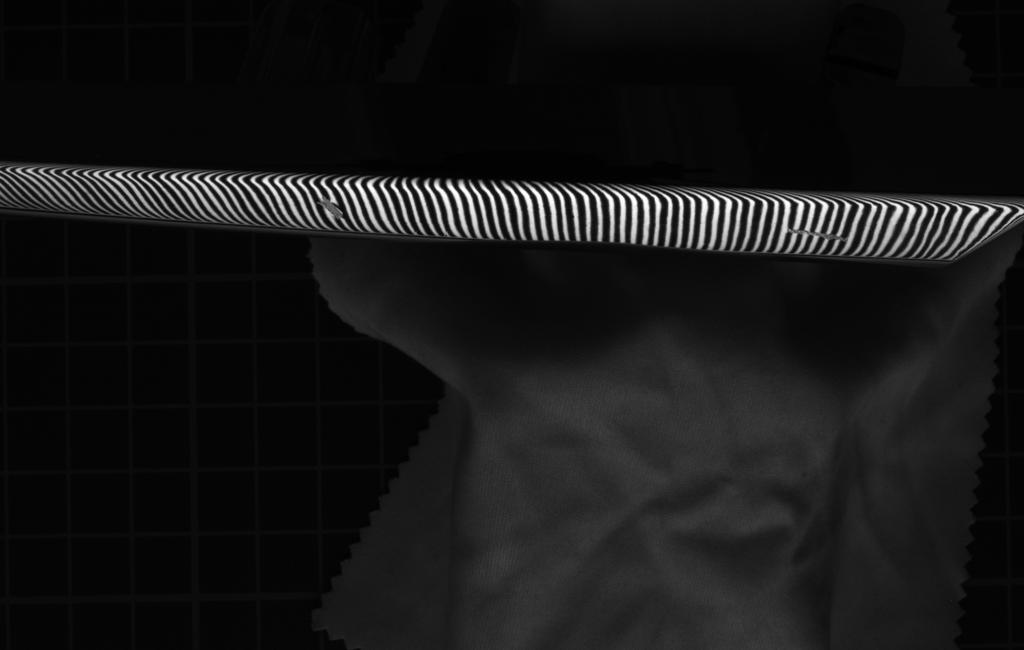Scratch: (781, 224, 856, 242), (318, 194, 355, 220)
